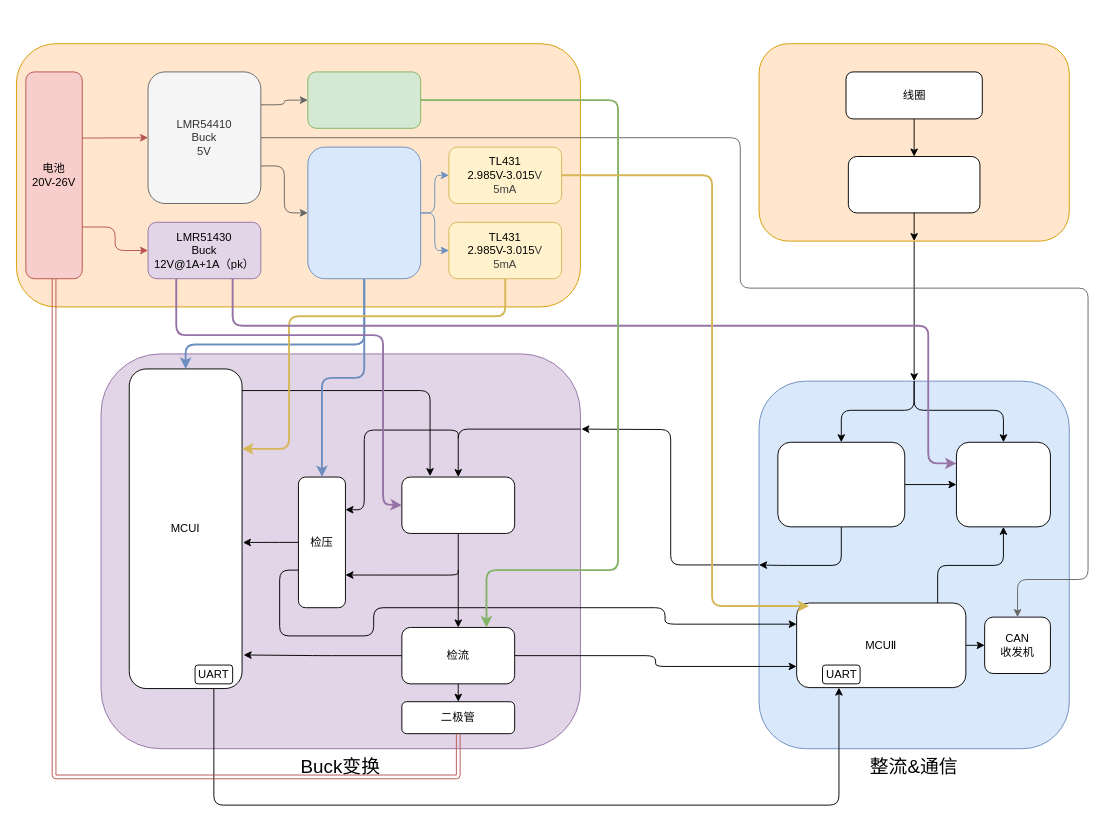
The diagram is 1112 pixels wide and 829 high, and some of its shapes have lost their labels. The shapes that lost their labels are listed below. From the top down, each one's box as (x1, y1, x2, y2) in pixels, then its label:
(307, 71, 421, 128): HT7133 3V3@10mA
(758, 43, 1069, 241): 接收线圈模组
(16, 43, 580, 307): 电源
(847, 156, 980, 213): 阻抗匹配网络
(307, 146, 421, 279): LM1117-3.3 3V3 @60mA+60mA
(777, 441, 905, 527): 全桥整流 & 滤波
(956, 441, 1050, 527): 短路开关
(401, 476, 515, 533): 半桥
